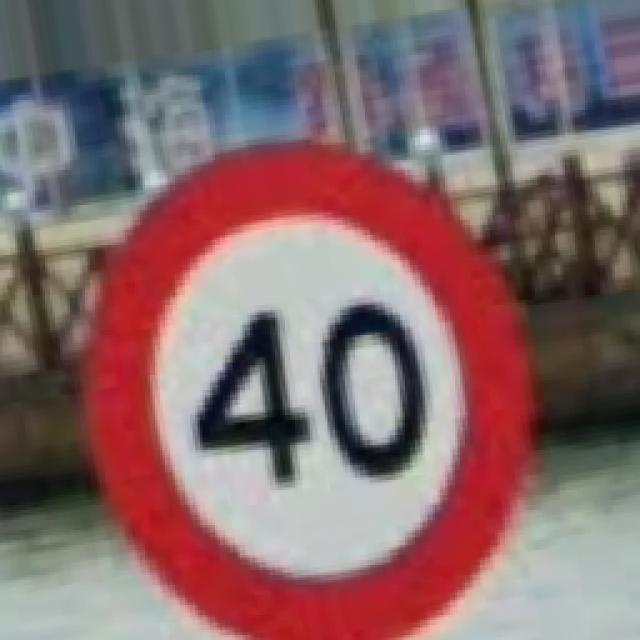Speed Limit -40-: (85, 142, 530, 635)
